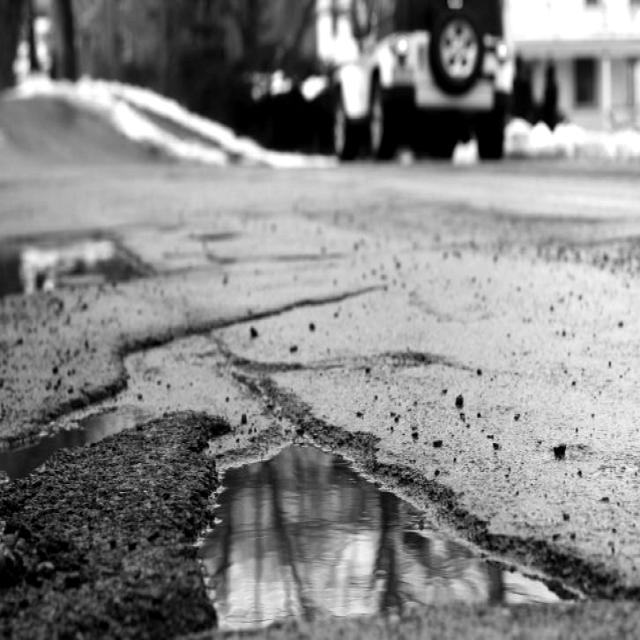pathole: (0, 211, 632, 640)
